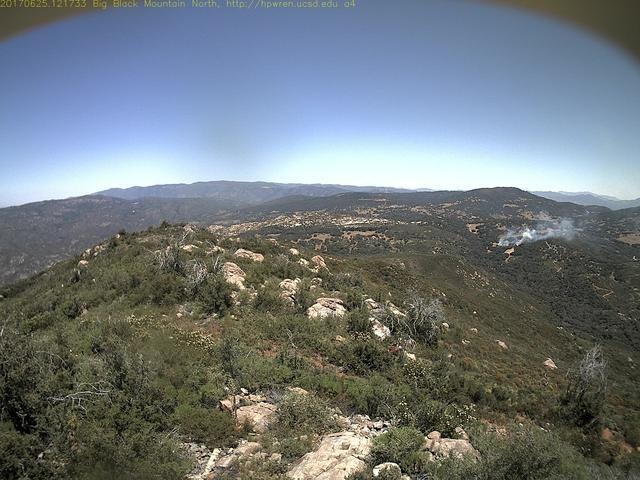Smoke: (495, 209, 580, 251)
